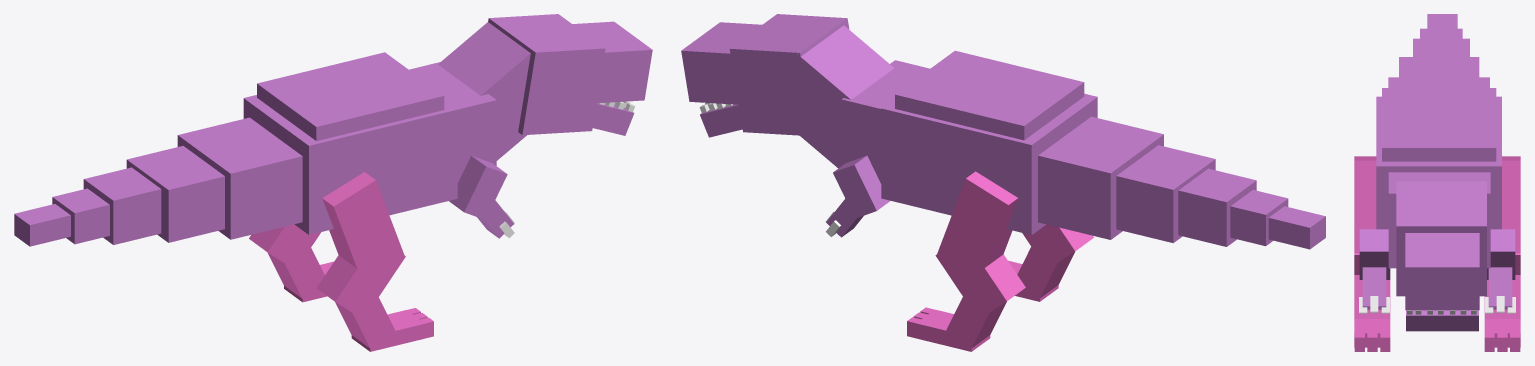
Rendered from Trex.fbx.
The picture shows the model from 3 angles, left to right: view 1: azimuth 30°, elevation 25°; view 2: azimuth 150°, elevation 25°; view 3: azimuth 270°, elevation 25°; orthographic projection. The views are drawn at different scales.
Parts seen in each view (by area): view 1: CABEZA, PATA 1, PATA 2; view 2: CABEZA, PATA 2, PATA 1; view 3: CABEZA, PATA 1, PATA 2.
Boxes of the visible parts, <box> form: CABEZA: <box>14,14,652,246</box>; PATA 1: <box>316,172,433,351</box>; PATA 2: <box>249,224,333,302</box>; CABEZA: <box>681,14,1325,249</box>; PATA 2: <box>907,171,1025,351</box>; PATA 1: <box>1008,224,1093,301</box>; CABEZA: <box>1359,14,1515,331</box>; PATA 1: <box>1354,156,1390,351</box>; PATA 2: <box>1484,156,1520,351</box>.
Size of the model in its own units: 74.1 by 18.17 by 27.54.
